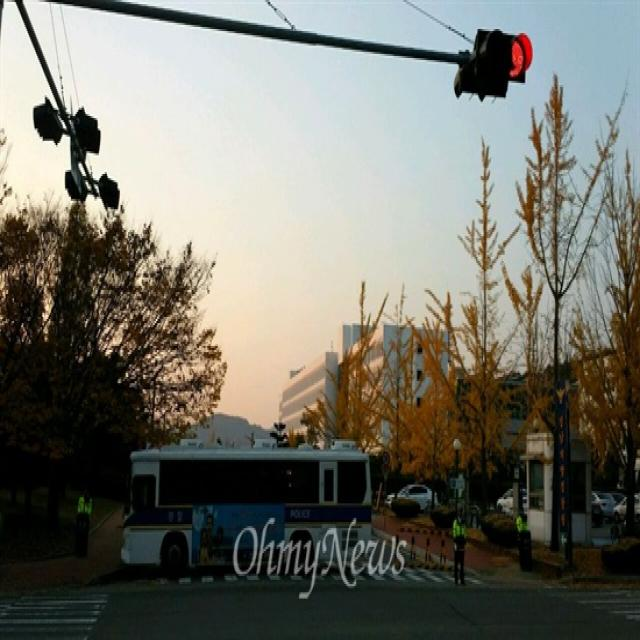Red Light: (506, 29, 534, 84)
